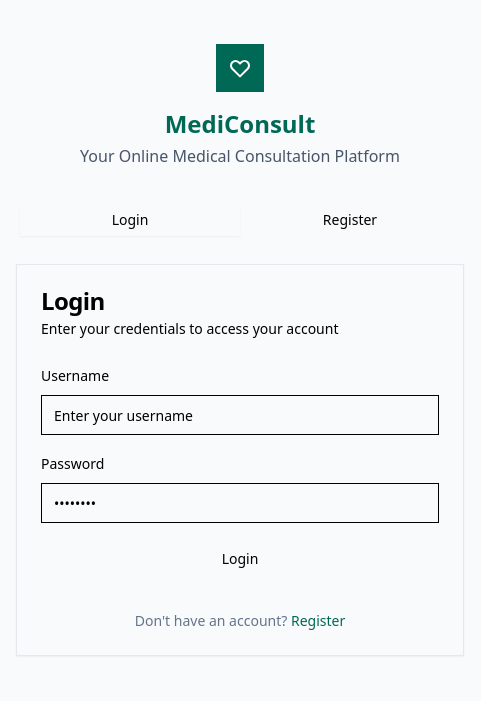
Test: Login Component › shows validation errors for login form
# Submit the form without filling in required fields
Click the button "Login" at (240, 559), box x1=41 y1=539 x2=439 y2=579
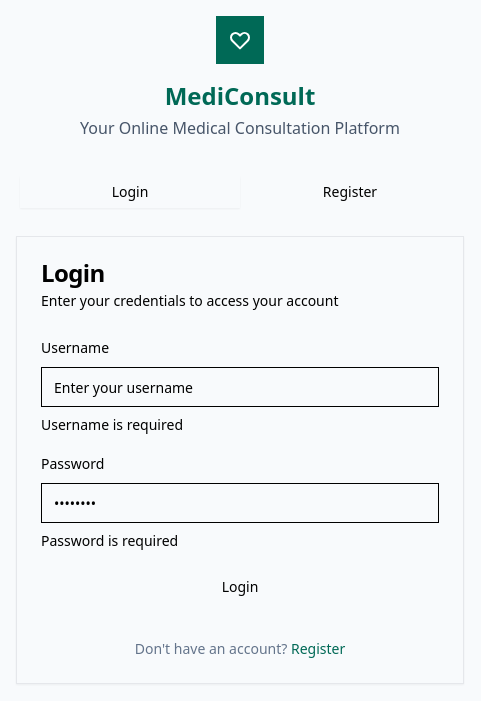
Expected: the text "Username is required" is shown, x1=41 y1=415 x2=183 y2=434
Expected: the text "Password is required" is shown, x1=41 y1=531 x2=178 y2=550
